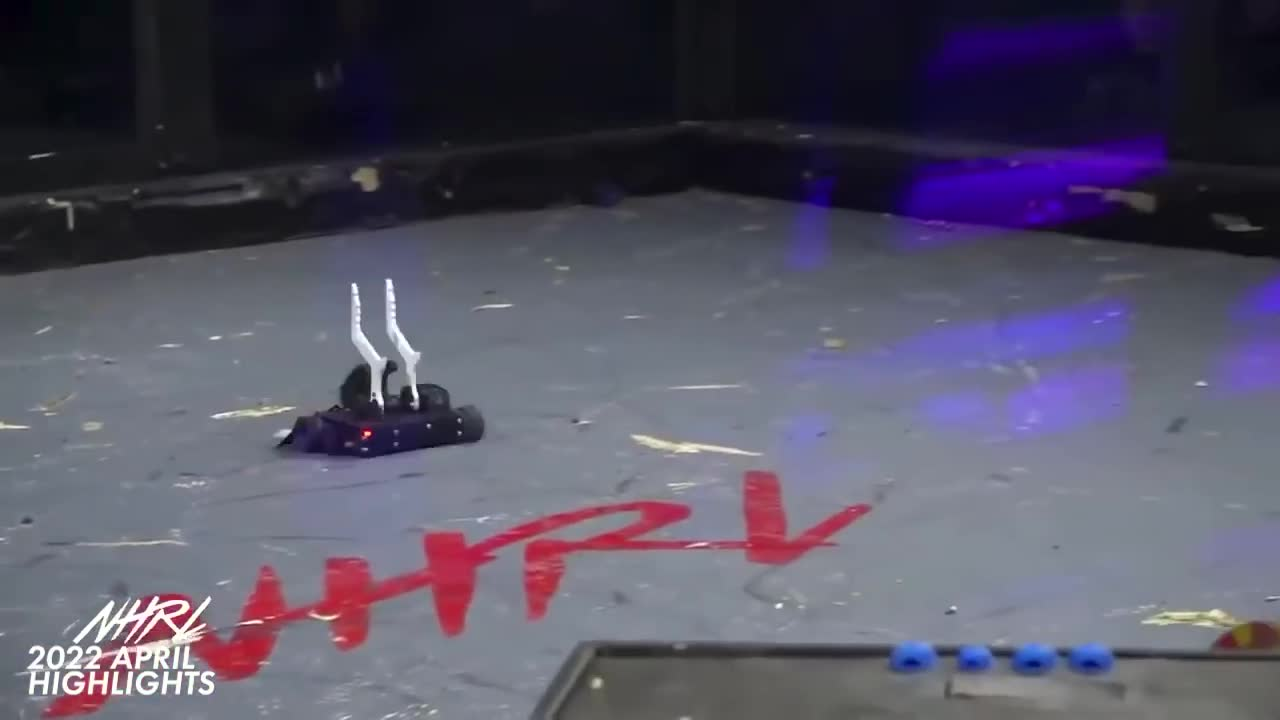combatbot: (270, 277, 486, 458)
housebot: (487, 627, 1280, 720)
